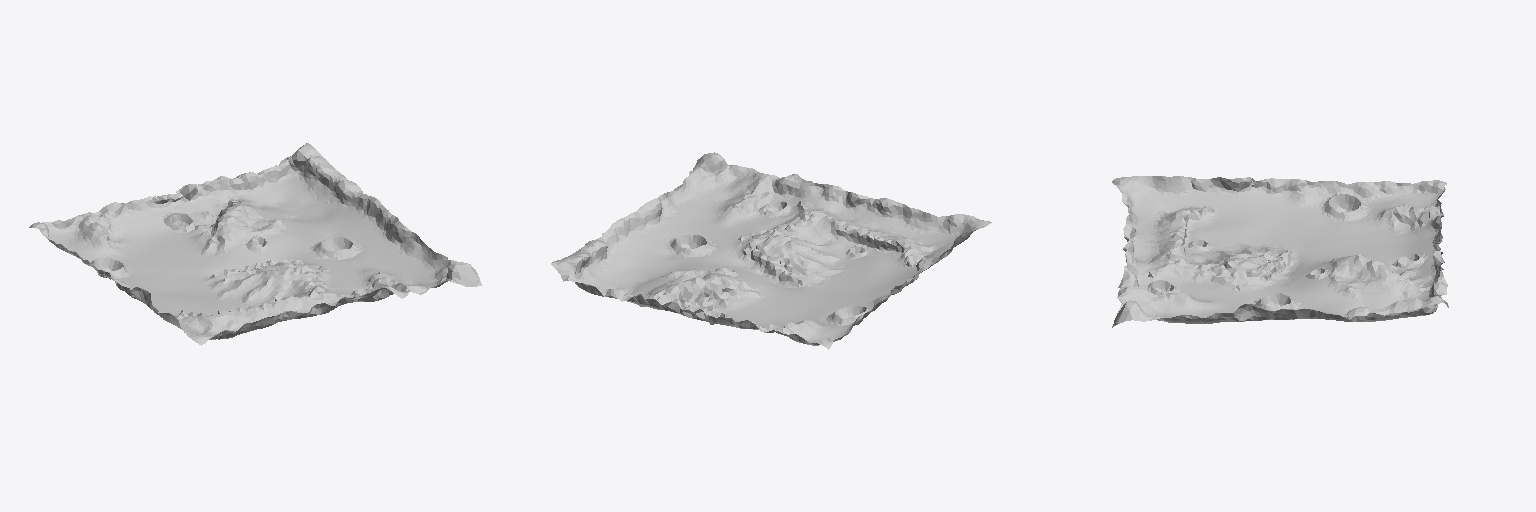
File: 10k -- To Unity.obj
3 renders of one model, left to right at view 1: azimuth 30°, elevation 25°; view 2: azimuth 150°, elevation 25°; view 3: azimuth 270°, elevation 25°, orthographic.
Visible parts, largest first — view 1: Terrain_10K_B; view 2: Terrain_10K_B; view 3: Terrain_10K_B.
Boxes of the visible parts, box(x1,y1,x2,y2) form: Terrain_10K_B: box(29, 143, 481, 345); Terrain_10K_B: box(551, 152, 991, 349); Terrain_10K_B: box(1112, 176, 1448, 327).
Size of the model in its own units: 706 by 99.4 by 715.